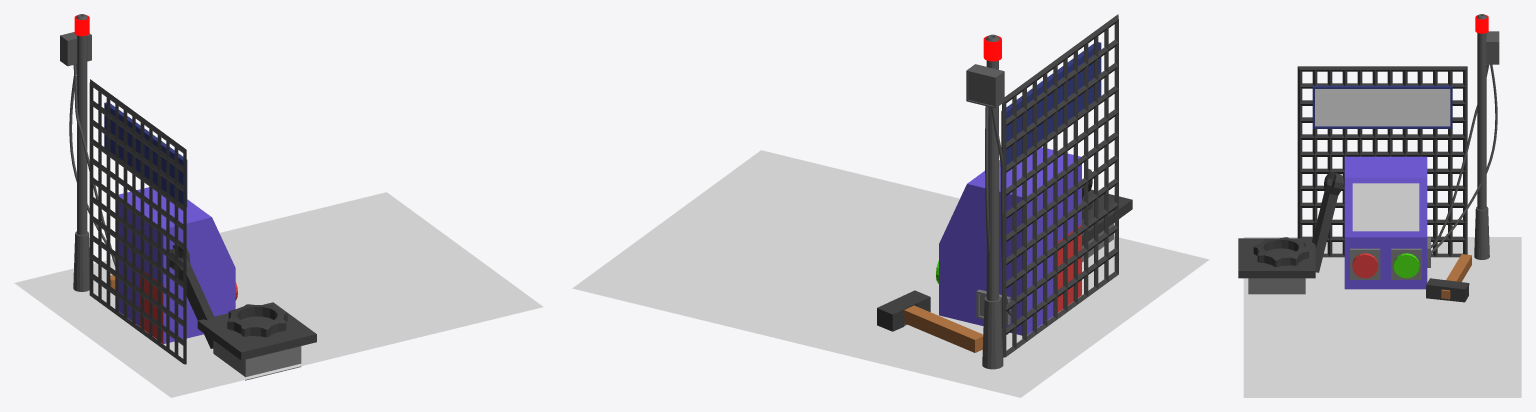
Rendered from Upgrade.fbx.
3 views of the same model, side by side, from view 1: azimuth 30°, elevation 25°; view 2: azimuth 150°, elevation 25°; view 3: azimuth 270°, elevation 25° (orthographic). The views are drawn at different scales.
Parts seen in each view (by area): view 1: Ground, Сітка, Comp, Cube.002, Stolb, Panel, Cylinder, Cube, MiniBox, Catenary.001; view 2: Ground, Сітка, Comp, Stolb, Cube.001, Panel, MiniBox, Cube.002, Catenary, Catenary.001; view 3: Ground, Comp, Сітка, Panel, Cube.002, Stolb, Cube, Cube.001, Cylinder, Catenary, Catenary.001, MiniBox.
Part boxes in pixels (x1,y1,x2,y2): Ground: (14, 192, 543, 397); Сітка: (89, 79, 186, 364); Comp: (118, 187, 237, 343); Cube.002: (197, 302, 316, 380); Stolb: (73, 14, 89, 291); Panel: (104, 102, 187, 206); Cylinder: (227, 304, 287, 337); Cube: (169, 245, 213, 348); MiniBox: (60, 32, 91, 66); Catenary.001: (73, 64, 115, 266); Ground: (572, 150, 1209, 397); Сітка: (1002, 14, 1118, 357); Comp: (936, 147, 1081, 335); Stolb: (982, 34, 1003, 369); Cube.001: (877, 290, 983, 352); Panel: (1001, 42, 1101, 164); MiniBox: (966, 64, 1004, 108); Cube.002: (1082, 189, 1132, 262); Catenary: (985, 106, 989, 253); Catenary.001: (990, 107, 1011, 315); Ground: (1243, 237, 1521, 397); Comp: (1344, 156, 1430, 289); Сітка: (1297, 66, 1467, 257); Panel: (1312, 85, 1452, 128); Cube.002: (1238, 238, 1315, 294); Stolb: (1474, 14, 1489, 259); Cube: (1312, 172, 1343, 272); Cube.001: (1426, 254, 1471, 302); Cylinder: (1253, 237, 1308, 266); Catenary: (1431, 64, 1497, 253); Catenary.001: (1431, 64, 1489, 247); MiniBox: (1486, 31, 1499, 64).
Bounding box in the file's own units: 921 × 651 × 685.
